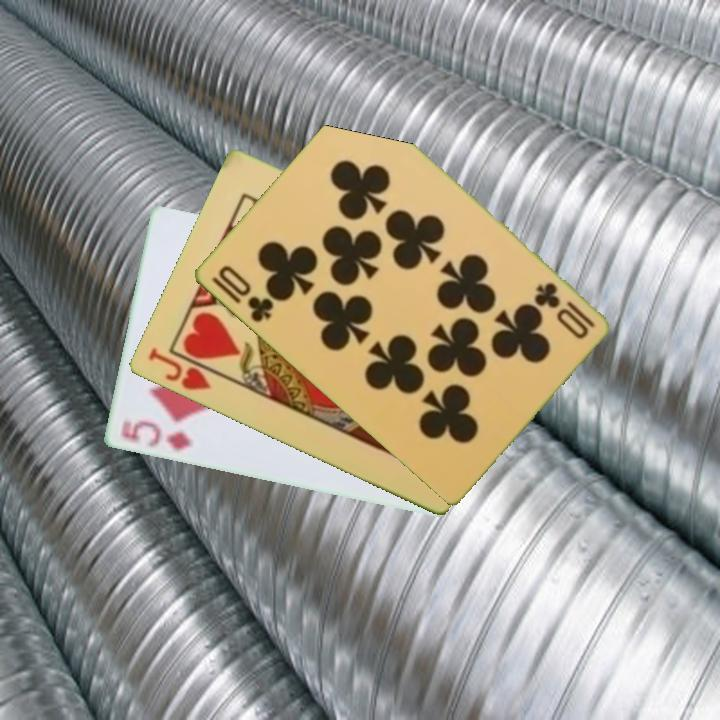10c: (207, 261, 277, 326), (531, 278, 597, 331)
5d: (116, 416, 193, 455)
Jh: (144, 344, 213, 394)
